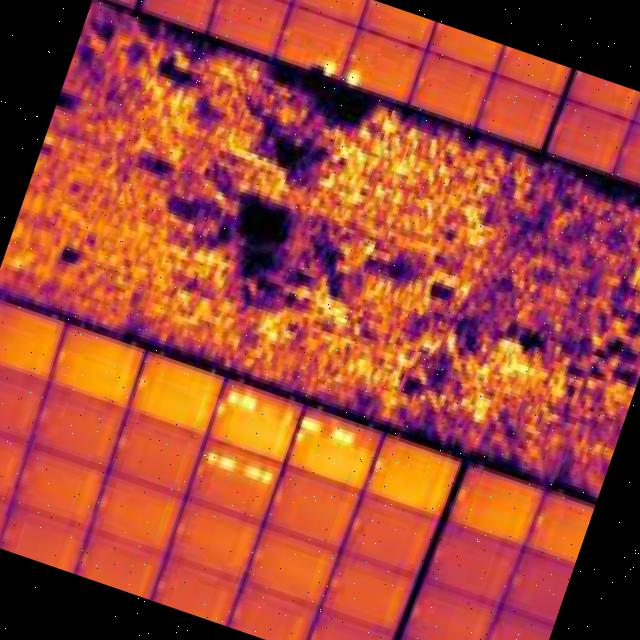Hotspot: (326, 418, 362, 452), (234, 387, 262, 418), (238, 457, 266, 488), (316, 56, 342, 82), (298, 412, 326, 434), (199, 443, 221, 469), (218, 449, 240, 472), (340, 67, 362, 90), (256, 467, 276, 488), (224, 386, 241, 404), (453, 484, 468, 504), (292, 428, 306, 446), (214, 402, 226, 418), (136, 374, 148, 388), (373, 457, 384, 472)
